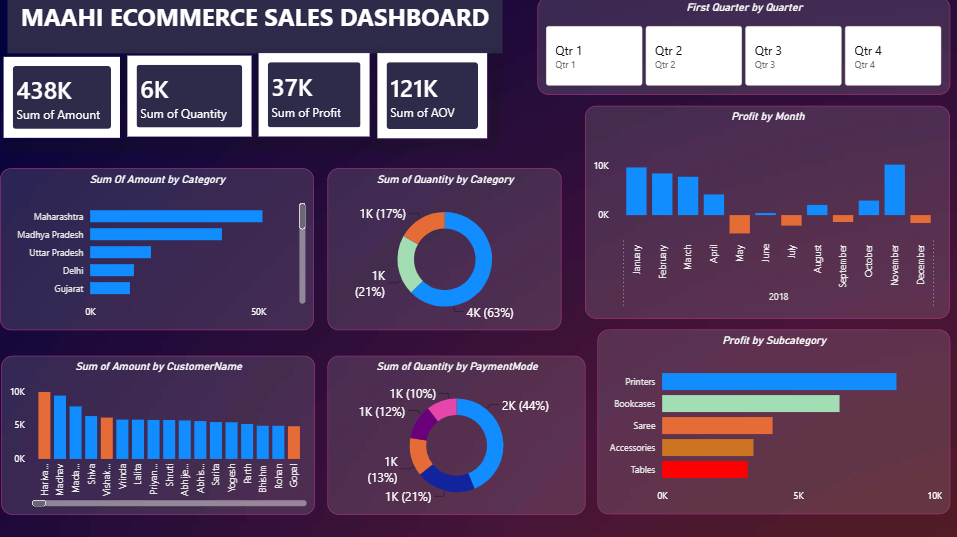

This screenshot's page, from the dashboard's own definition file:
{"tool":"powerbi","page":{"name":"Page 1","canvas":[1280,720],"ordinal":0},"visuals":[{"type":"textbox","box":[10,0,660,75],"z":0},{"type":"columnChart","title":"Profit by Month","fields":{"Category":["Orders.Order Date.Variation.Date Hierarchy.Year","Orders.Order Date.Variation.Date Hierarchy.Month"],"Y":["Sum(Details.Profit)"]},"box":[780,145,486,284],"z":1000},{"type":"barChart","title":"Profit by Subcategory","fields":{"Category":["Details.Sub-Category"],"Y":["Sum(Details.Profit)"]},"box":[796,444,470,246],"z":2000},{"type":"donutChart","fields":{"Category":["Details.Category"],"Y":["Sum(Details.Quantity)"]},"box":[436,228,312.3,215.9],"z":3000},{"type":"donutChart","fields":{"Category":["Details.PaymentMode"],"Y":["Sum(Details.Quantity)"]},"box":[436,478,344,212],"z":4000},{"type":"barChart","title":"Sum Of Amount by Category","fields":{"Category":["Orders.State"],"Y":["Sum(Details.Amount)"]},"box":[0,228,418,216],"z":5000},{"type":"columnChart","fields":{"Category":["Orders.CustomerName"],"Y":["Sum(Details.Amount)"]},"box":[2,478,418,212],"z":6000},{"type":"advancedSlicerVisual","fields":{"Label":["Min(Orders.Order Date.Variation.Date Hierarchy.Quarter)"],"Values":["Orders.Order Date.Variation.Date Hierarchy.Quarter"]},"box":[716,0,550,130],"z":7000},{"type":"cardVisual","fields":{"Data":["Sum(Details.Amount)"]},"box":[0,75,165,118.3],"z":8000},{"type":"cardVisual","fields":{"Data":["Sum(Details.Quantity)"]},"box":[165,73.3,175,118.3],"z":9000},{"type":"cardVisual","fields":{"Data":["Sum(Details.Profit)"]},"box":[340,70,158.3,121.7],"z":10000},{"type":"cardVisual","fields":{"Data":["Sum(Details.AOV)"]},"box":[498.3,70,156.7,123.3],"z":11000}]}

Visuals, with their boxes in screenshot pixels (x1, y1, x2, y2), scaled from the page's 1280x720 canvas onto the 957x537 screenshot:
textbox: BBox(7, 0, 501, 56)
"Profit by Month" columnChart: BBox(583, 108, 947, 320)
"Profit by Subcategory" barChart: BBox(595, 331, 947, 515)
donutChart - Details.Category x Sum(Details.Quantity): BBox(326, 170, 559, 331)
donutChart - Details.PaymentMode x Sum(Details.Quantity): BBox(326, 357, 583, 515)
"Sum Of Amount by Category" barChart: BBox(0, 170, 313, 331)
columnChart - Orders.CustomerName x Sum(Details.Amount): BBox(1, 357, 314, 515)
advancedSlicerVisual - Min(Orders.Order Date.Variation.Date Hierarchy.Quarter) x Orders.Order Date.Variation.Date Hierarchy.Quarter: BBox(535, 0, 947, 97)
cardVisual - Sum(Details.Amount): BBox(0, 56, 123, 144)
cardVisual - Sum(Details.Quantity): BBox(123, 55, 254, 143)
cardVisual - Sum(Details.Profit): BBox(254, 52, 373, 143)
cardVisual - Sum(Details.AOV): BBox(373, 52, 490, 144)
